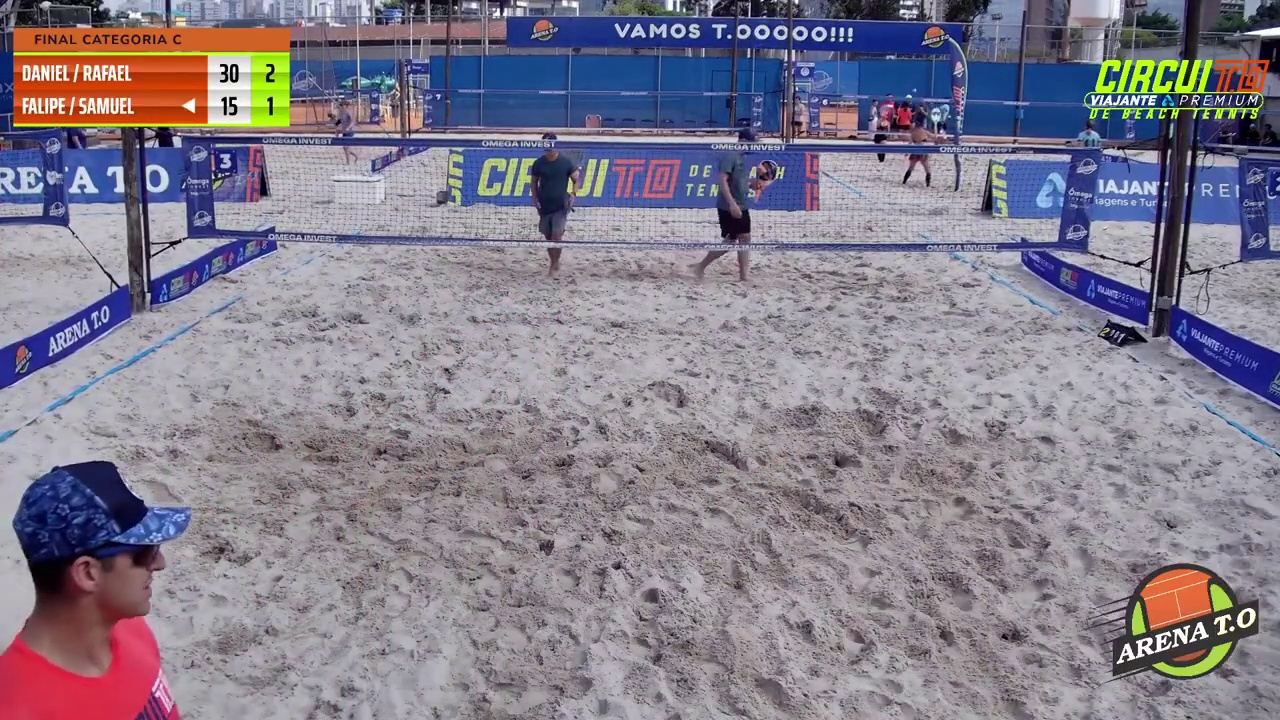court_line: (635, 0, 800, 444), (537, 0, 685, 481)
